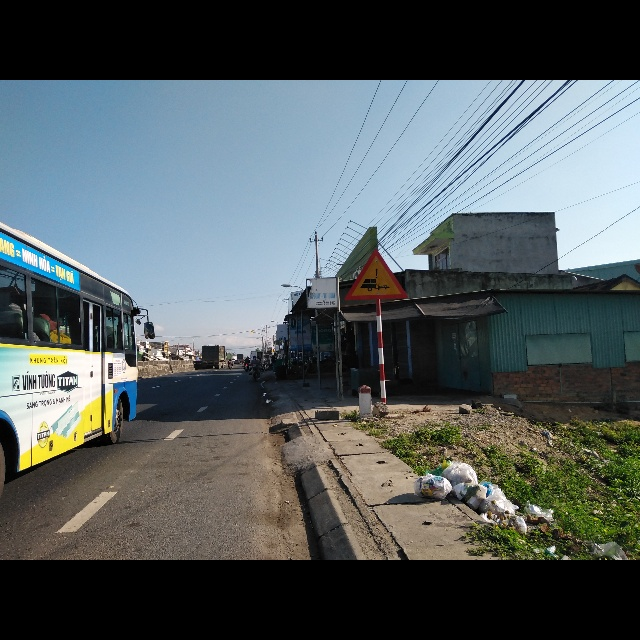Đoạn đường hay xảy ra tai nạn: (347, 248, 409, 301)
